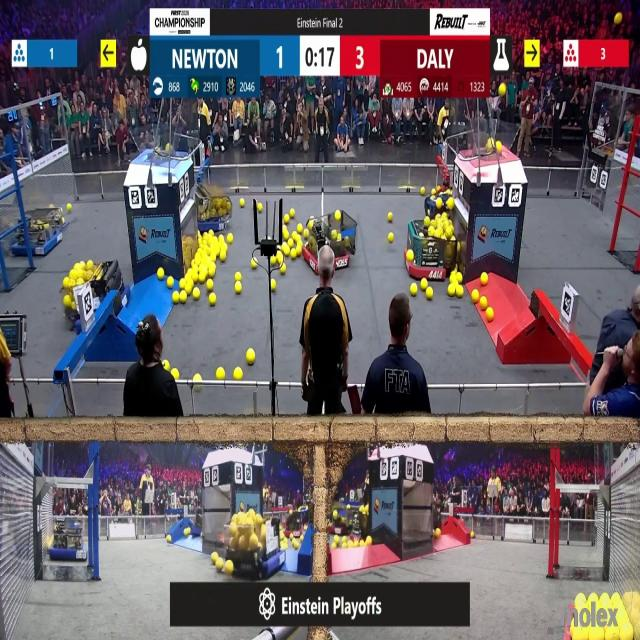ball_airborne: (486, 139, 495, 152), (499, 83, 506, 97), (165, 144, 173, 155), (616, 12, 623, 23), (496, 142, 501, 153)
ball_ground: (246, 349, 255, 364), (224, 560, 232, 576), (481, 273, 489, 286), (486, 309, 494, 321), (191, 288, 199, 300), (208, 266, 216, 278), (215, 560, 223, 572), (199, 271, 207, 283), (407, 250, 415, 262), (471, 289, 478, 302), (172, 291, 180, 302), (217, 366, 224, 378), (210, 292, 217, 304), (236, 366, 243, 378), (207, 280, 214, 292), (236, 282, 243, 294), (456, 286, 463, 297), (219, 250, 226, 261), (180, 291, 187, 302), (64, 295, 71, 306), (172, 367, 179, 378), (283, 244, 290, 255), (426, 288, 432, 300), (168, 277, 174, 289), (449, 284, 455, 296), (421, 280, 428, 290), (185, 280, 192, 290), (277, 252, 284, 262), (271, 280, 277, 291), (481, 296, 487, 307), (271, 253, 277, 264), (284, 230, 290, 241), (451, 272, 457, 283), (236, 273, 243, 282), (412, 284, 418, 294), (226, 234, 232, 244), (165, 360, 171, 370), (180, 279, 186, 289), (159, 270, 165, 280), (256, 203, 262, 213), (365, 536, 371, 546), (290, 248, 296, 258), (193, 375, 200, 383), (457, 273, 462, 284), (388, 234, 394, 243), (212, 553, 218, 562), (284, 214, 290, 223), (185, 270, 191, 279), (211, 252, 217, 261), (335, 535, 341, 544), (388, 212, 393, 222), (281, 266, 286, 276), (435, 528, 440, 538), (64, 278, 69, 288), (296, 224, 302, 232), (218, 236, 224, 244), (184, 528, 189, 537), (420, 187, 426, 194), (251, 262, 256, 270), (165, 538, 170, 545), (288, 240, 293, 247), (241, 200, 245, 208), (68, 204, 72, 212), (290, 209, 294, 217), (473, 534, 477, 541)
goal: (466, 123, 522, 160), (129, 130, 189, 161)
robot_blue: (62, 259, 123, 333), (219, 513, 284, 580), (196, 184, 232, 236), (28, 206, 66, 254), (48, 517, 86, 561)
robot_red: (405, 213, 457, 281), (303, 212, 355, 271), (332, 497, 370, 542), (281, 507, 308, 540)
